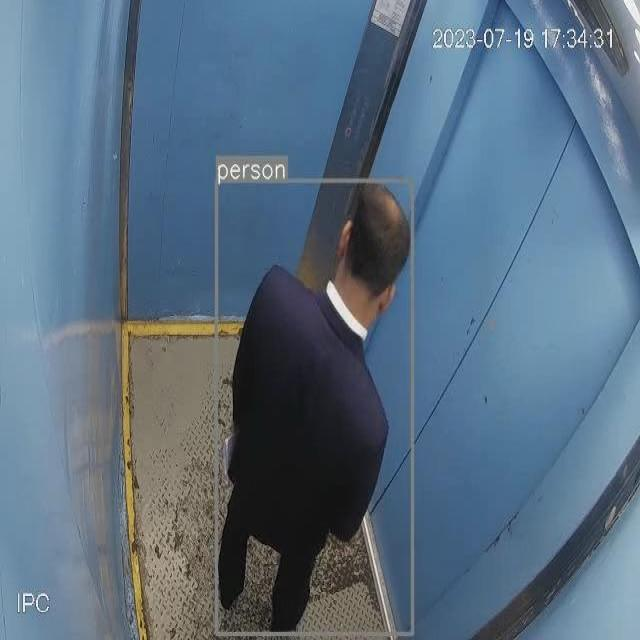person: (217, 181, 413, 635)
